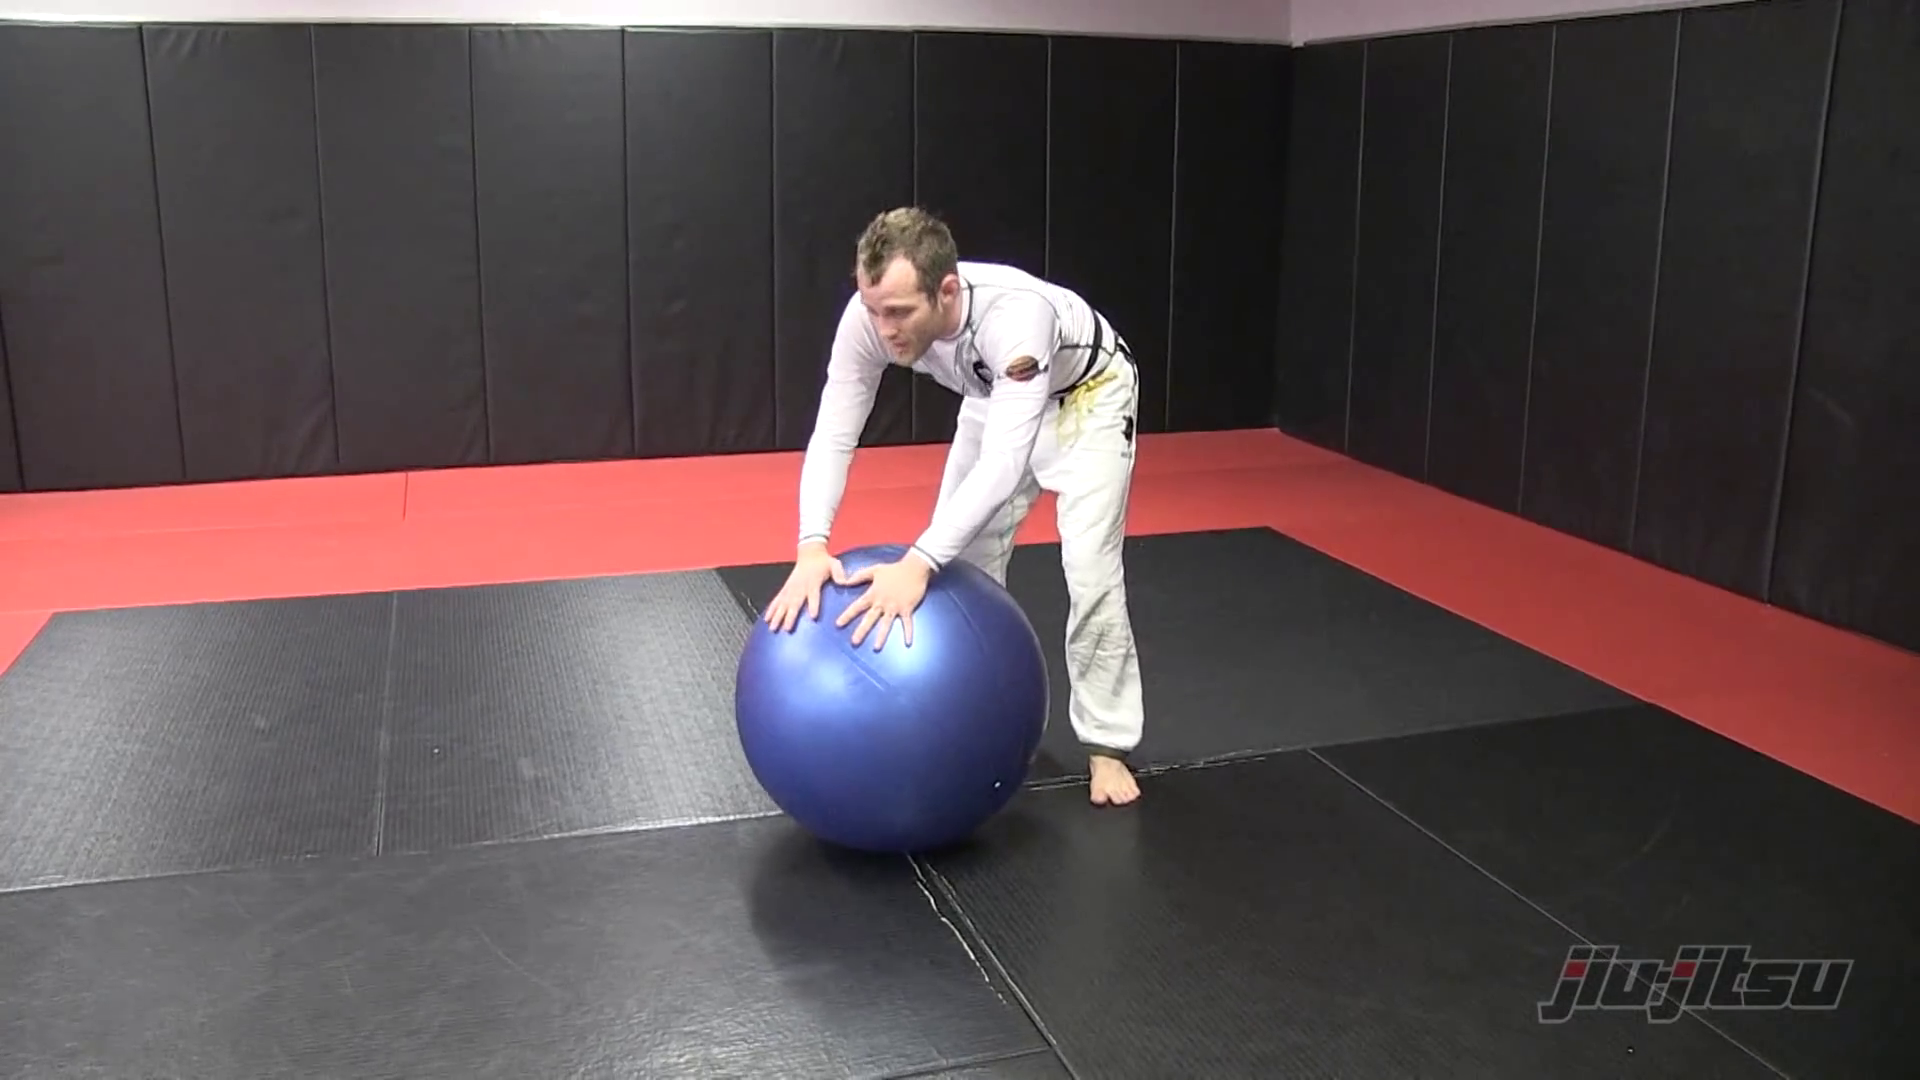yogaball: (723, 546, 1058, 881)
